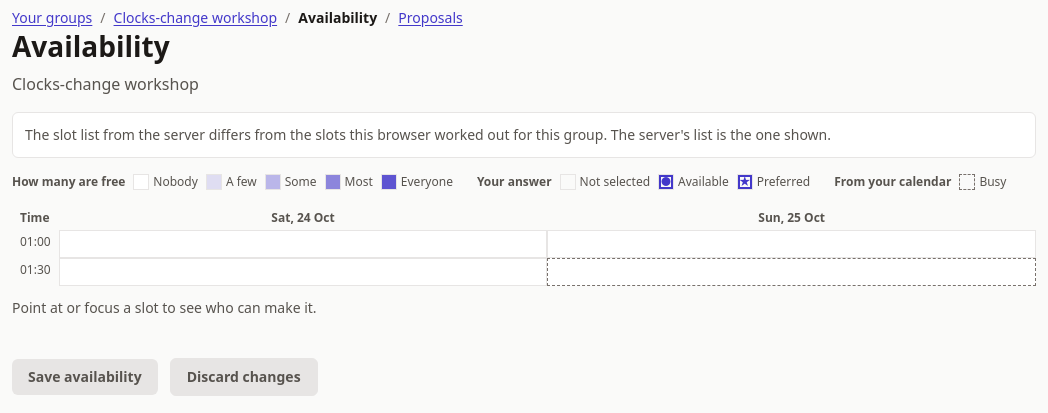
AvailabilityBoard reconciliation › renders the server's slot vector and says so when it differs from the generated one
expect the text "differs from the slots this browser worked out" is shown: met, box [25,125,831,144]
expect the button "Save availability" is disabled: met, box [12,359,158,395]
Press the mouse on the cell named "Sat, 24 Oct at 01:00" at (303, 244), box [59,230,547,258]
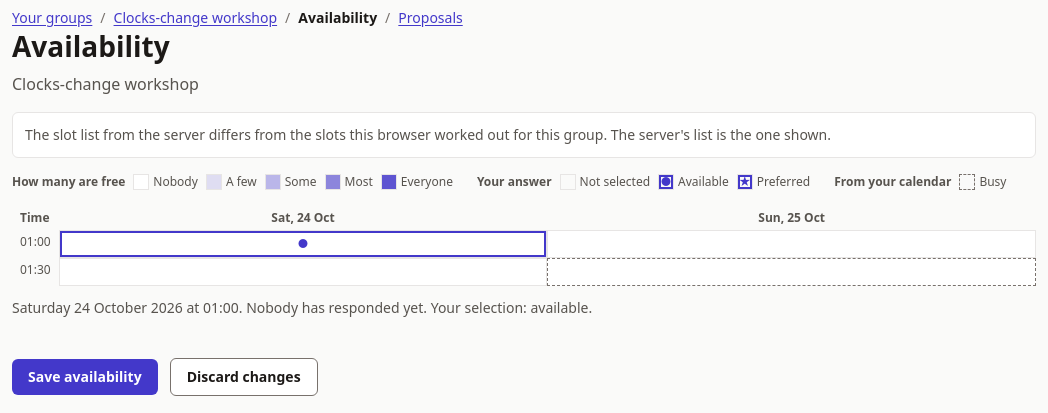
expect the button "Save availability" is enabled: met, box [12,359,158,395]
